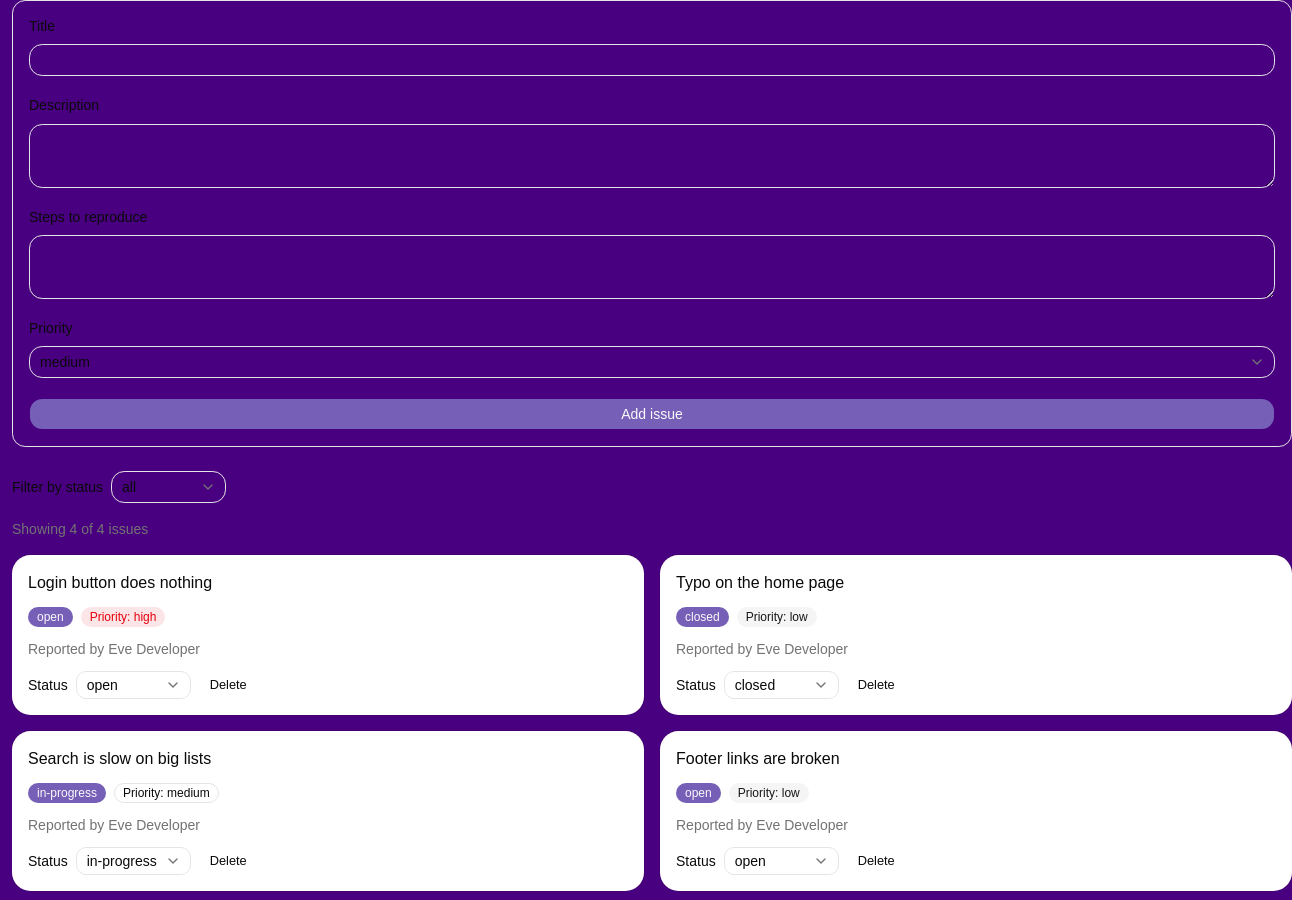
Test: IssueListPage (changing data) › deletes an issue after the person confirms
The image size is (1292, 900).
Expected: the text "Showing 4 of 4 issues" is shown, [12, 521, 148, 537]
Click the button "Delete" below "closed": (876, 685) [847, 671, 906, 699]
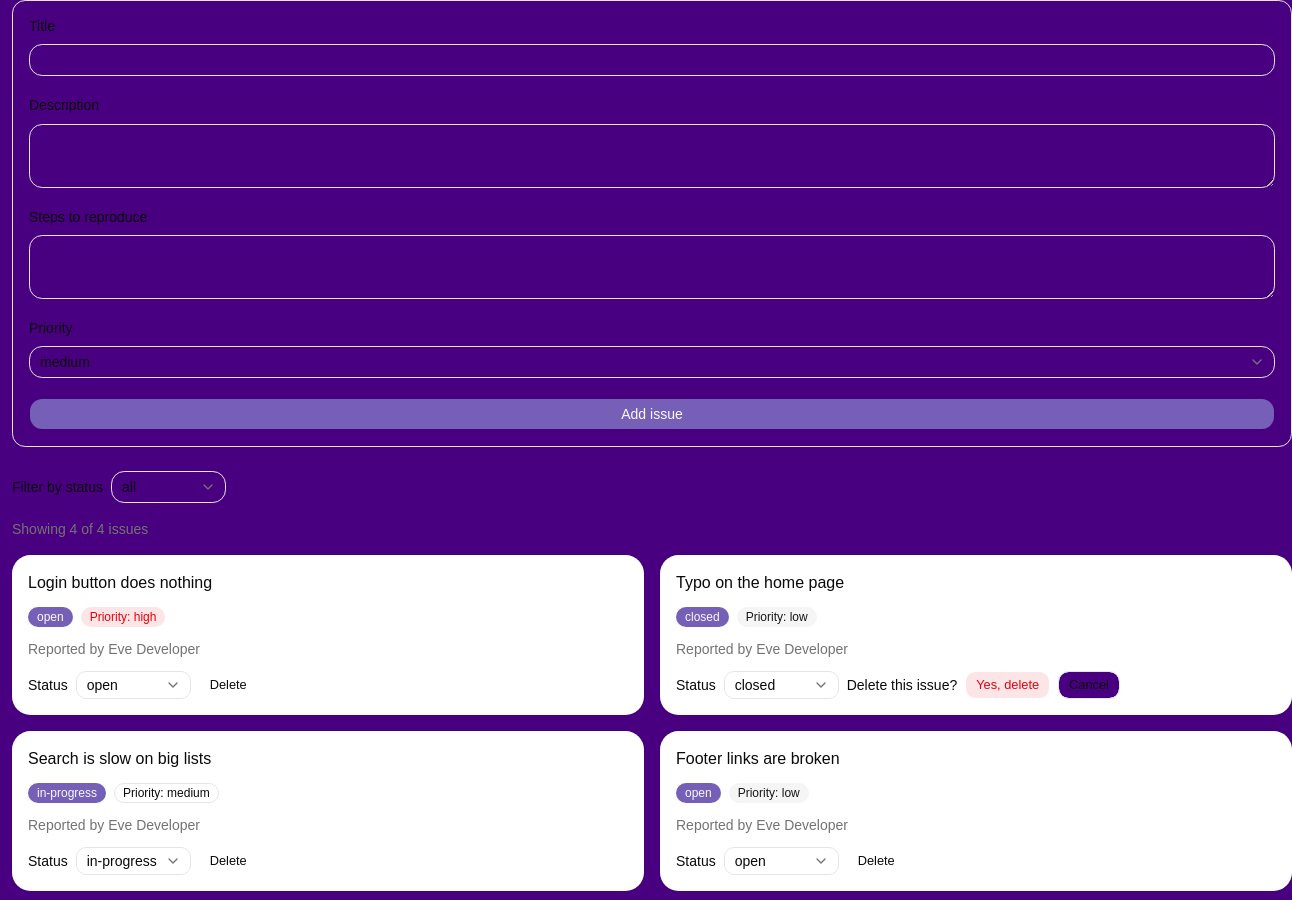
Click the button "Yes, delete": (1008, 685) [965, 671, 1050, 699]
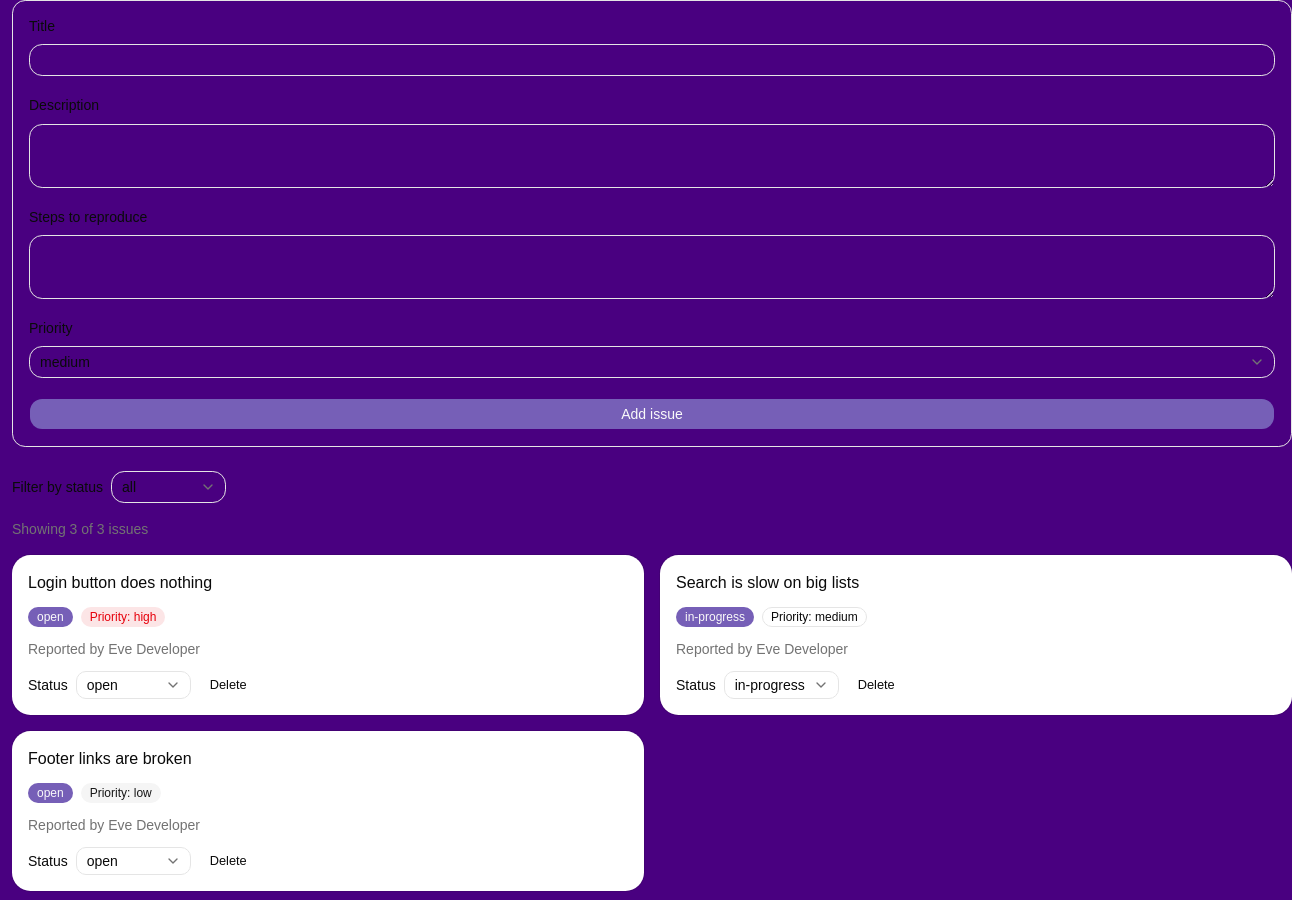
Expected: the text "Showing 3 of 3 issues" is shown, [12, 521, 148, 537]
Expected: the heading "Typo on the home page" is gone
